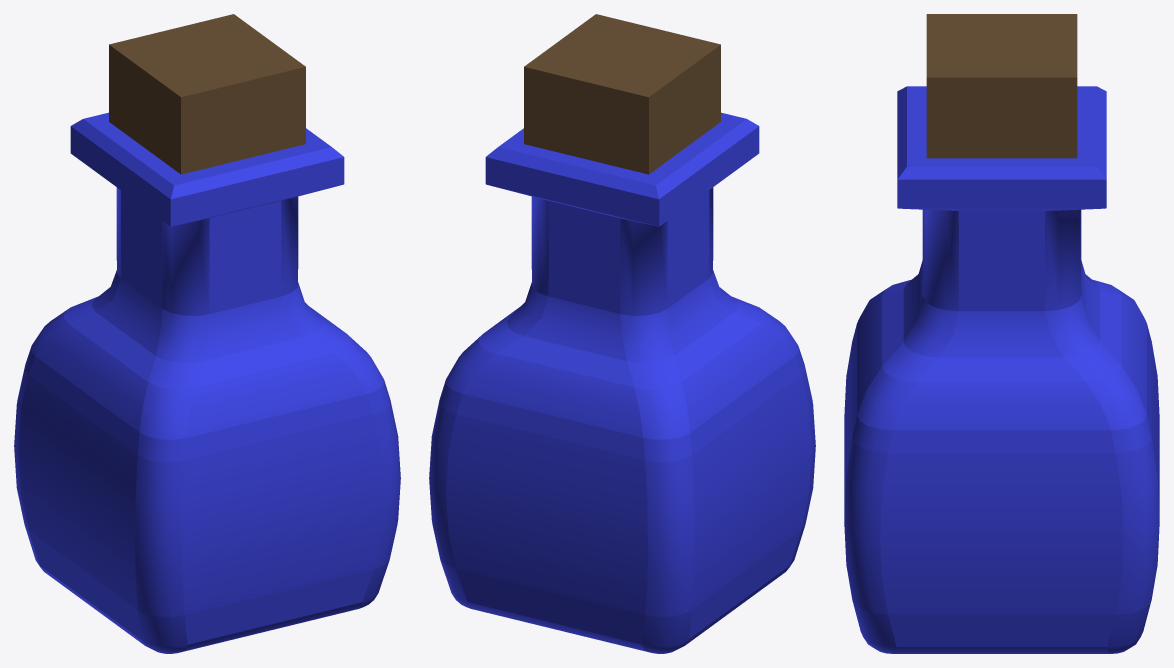
Rendered from Bottle 2.fbx.
3 renders of one model, left to right at view 1: azimuth 30°, elevation 25°; view 2: azimuth 150°, elevation 25°; view 3: azimuth 270°, elevation 25°, orthographic. The views are drawn at different scales.
Visible parts, largest first — view 1: Cube.001; view 2: Cube.001; view 3: Cube.001.
Part boxes in pixels (x1,y1,x2,y2): Cube.001: (14,14,400,653); Cube.001: (429,14,815,653); Cube.001: (844,14,1159,653).
Size of the model in its own units: 245 by 485 by 245.
